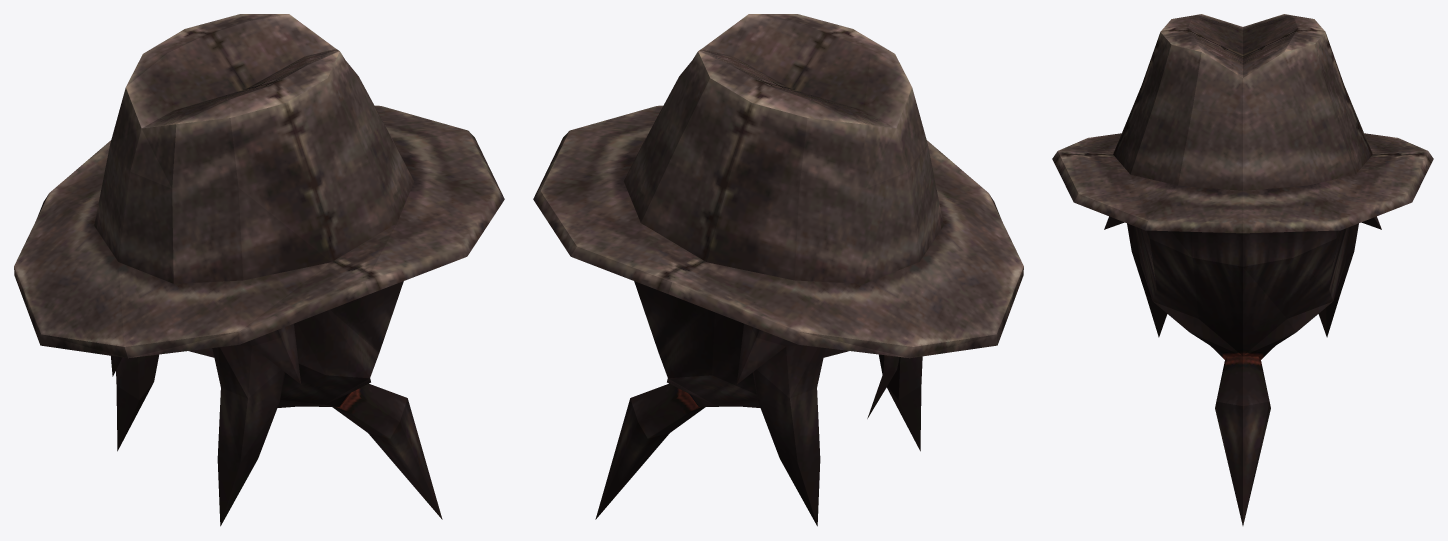
Rendered from Cat_hallowHat.obj.
3 renders of one model, left to right at view 1: azimuth 30°, elevation 25°; view 2: azimuth 150°, elevation 25°; view 3: azimuth 270°, elevation 25°, orthographic. The views are drawn at different scales.
Parts seen in each view (by area): view 1: Cat_hallowHat_tri; view 2: Cat_hallowHat_tri; view 3: Cat_hallowHat_tri.
Part boxes in pixels (x1=…): Cat_hallowHat_tri: x1=14, y1=14, x2=504, y2=526; Cat_hallowHat_tri: x1=533, y1=14, x2=1023, y2=526; Cat_hallowHat_tri: x1=1052, y1=14, x2=1433, y2=525.
Size of the model in its own units: 0.4439 by 0.5066 by 0.4134.
Materials: 1 (1 with a texture image).
